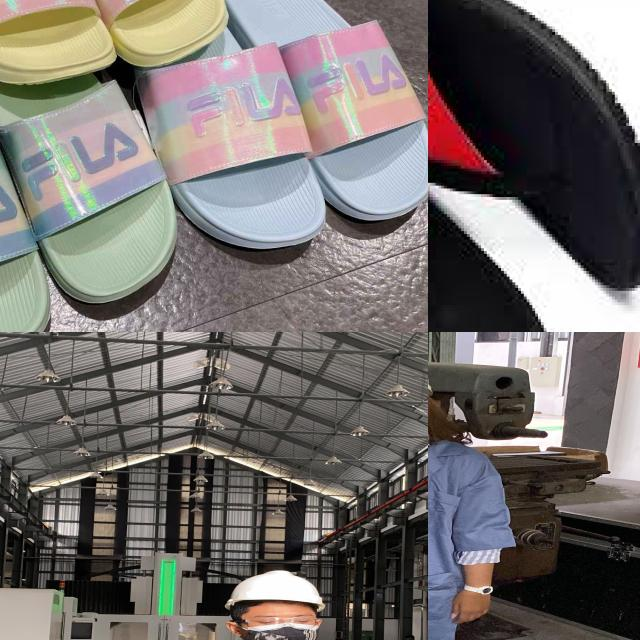Sandals: (150, 0, 428, 263), (428, 0, 640, 332), (0, 0, 197, 332), (0, 0, 238, 98)
face_mask: (233, 610, 325, 640)
glasses: (224, 616, 322, 632)
hand_noglove: (446, 589, 497, 626)
head_helmet: (217, 565, 333, 611)
person: (65, 562, 428, 640), (428, 344, 520, 640)
